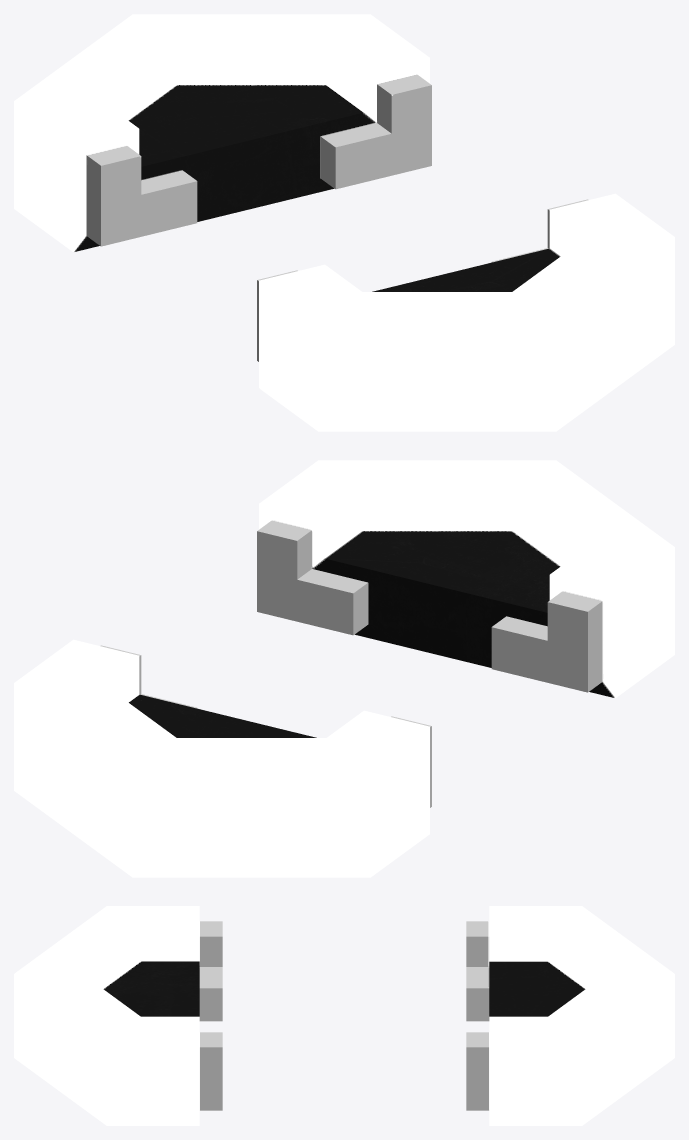
The model's file is SocketKey.fbx.
3 renders of one model, top to bottom at view 1: azimuth 30°, elevation 25°; view 2: azimuth 150°, elevation 25°; view 3: azimuth 270°, elevation 25°, orthographic. The views are drawn at different scales.
Visible parts, largest first — view 1: SocketKey; view 2: SocketKey; view 3: SocketKey.
Part boxes in pixels (x1,y1,x2,y2): SocketKey: (14, 14, 674, 431); SocketKey: (14, 460, 674, 877); SocketKey: (14, 906, 674, 1125).
Bounding box in the file's own units: 0.0554 × 0.016 × 0.114.
1 material, 1 textured.
